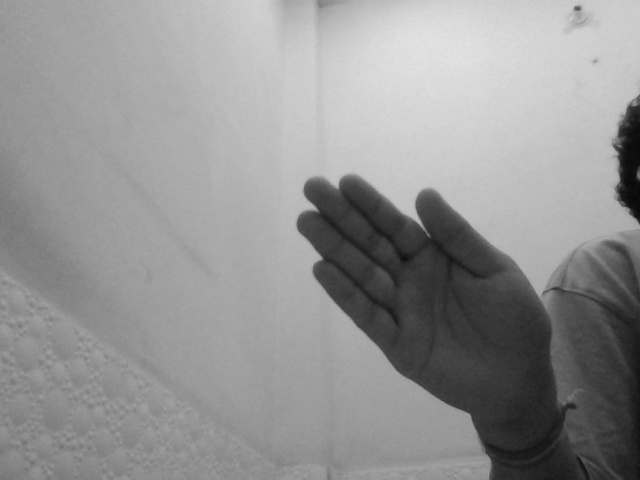Hello: (293, 167, 553, 433)
